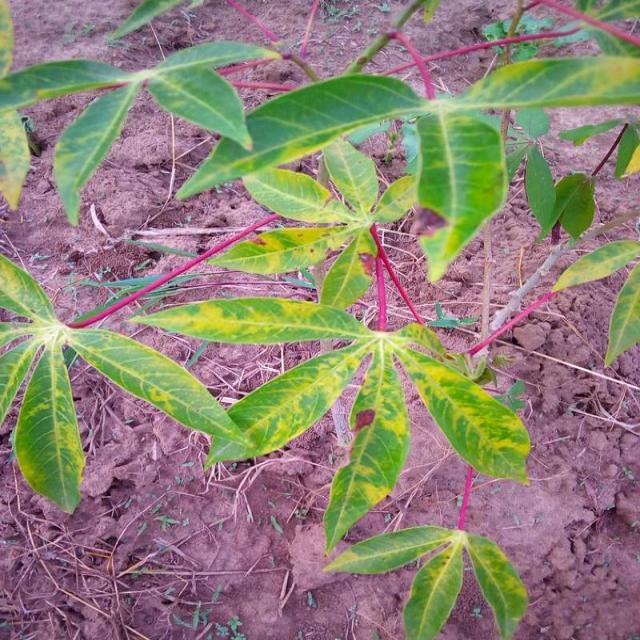Mosaico: (176, 244, 544, 566), (227, 47, 640, 198), (5, 266, 242, 496), (208, 127, 465, 324), (360, 506, 573, 640)
